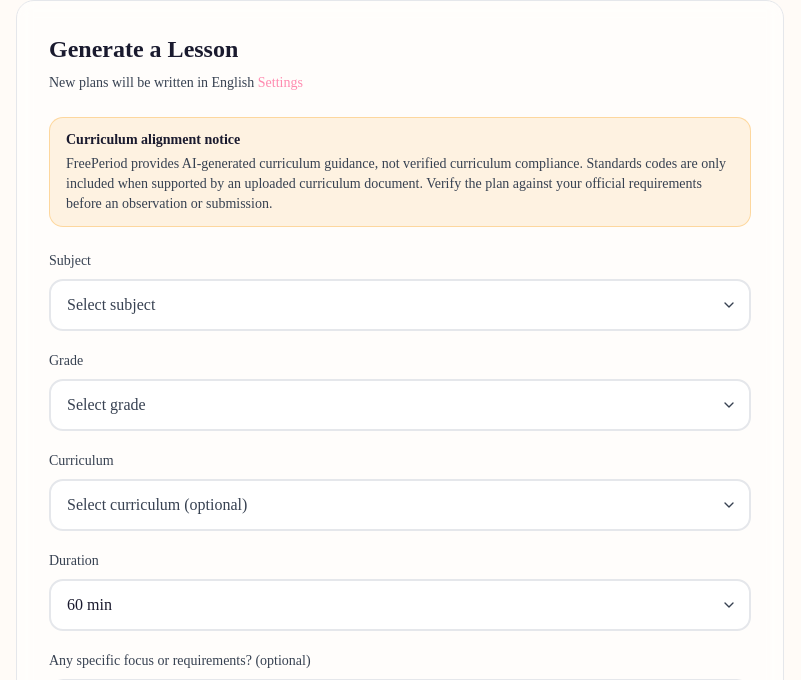
it: GenerateForm › renders duration dropdown with preset options and Custom
Click the button named "duration".
click(89, 604)  # box [49,579,751,631]
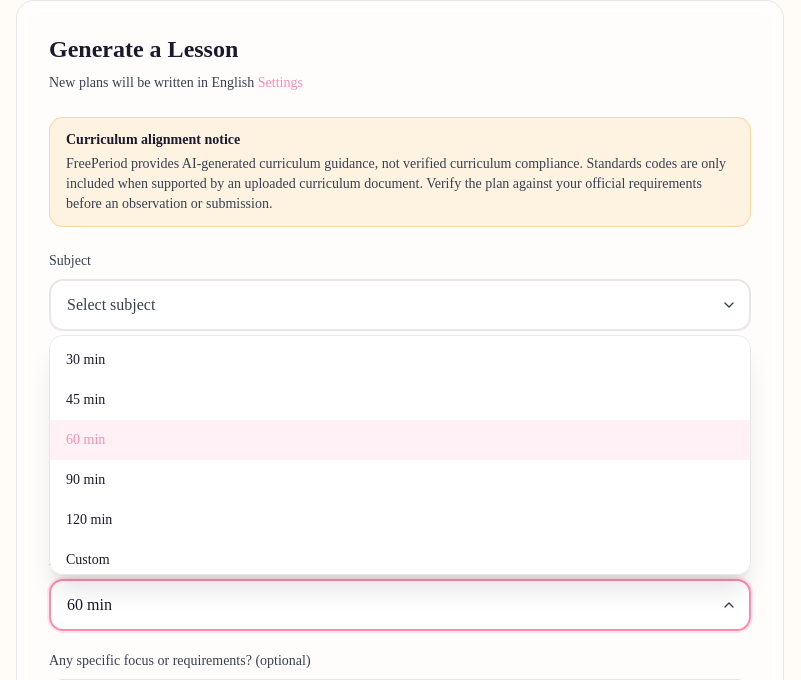
Result: the option "Custom" is shown at [66,552,110,567]
